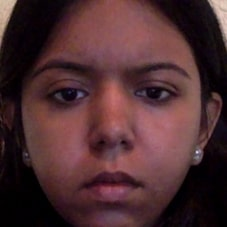awake: (36, 48, 194, 209)
